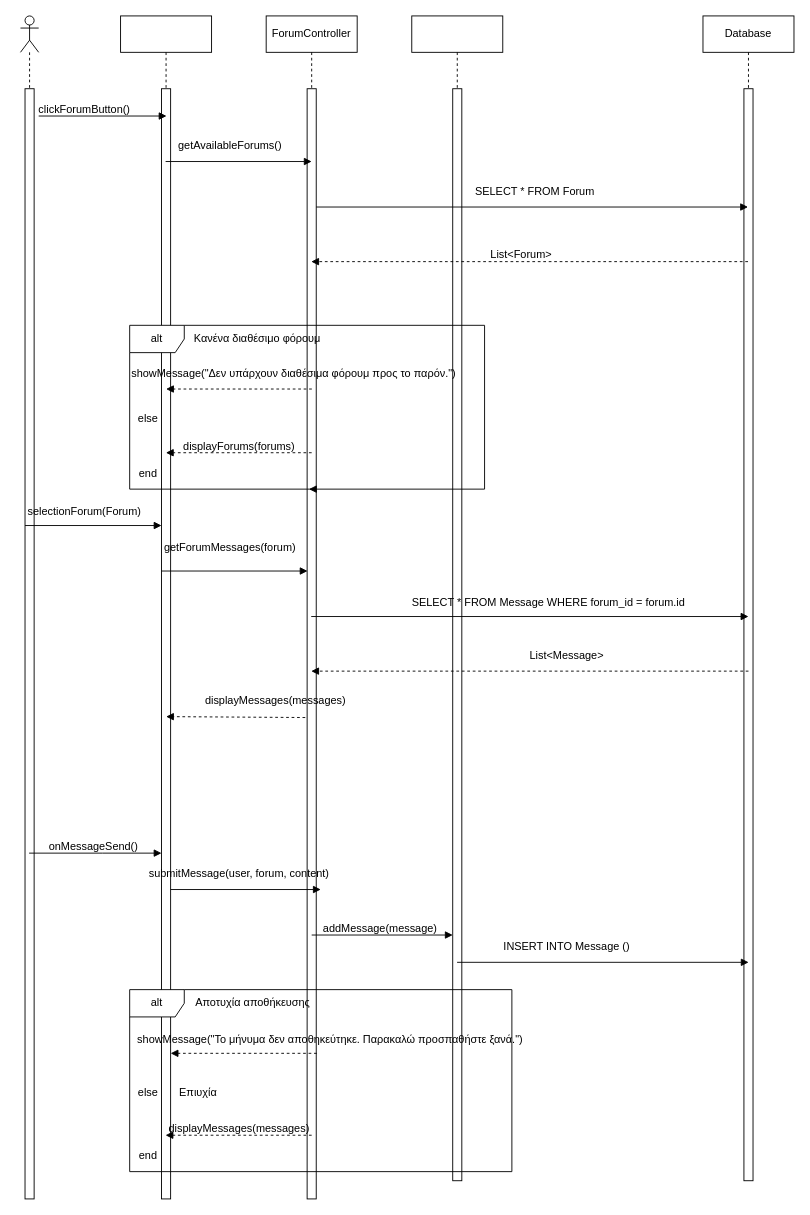
Image size: 810x1215. Some labels were removed from this diagram. The shapes that lost their labels are listed below. From the top down, each one's box as (x1, y1, x2, y2) in pixels, then its label:
(120, 15, 212, 1199): ForumView
(411, 15, 503, 1181): Forum
